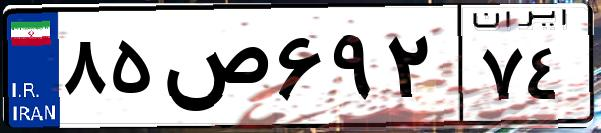2: (385, 28, 445, 110)
4: (525, 38, 570, 115)
5: (110, 28, 158, 98)
6: (270, 28, 330, 110)
7: (475, 38, 525, 113)
8: (57, 26, 110, 100)
9: (330, 28, 385, 110)
ص: (158, 20, 270, 120)
